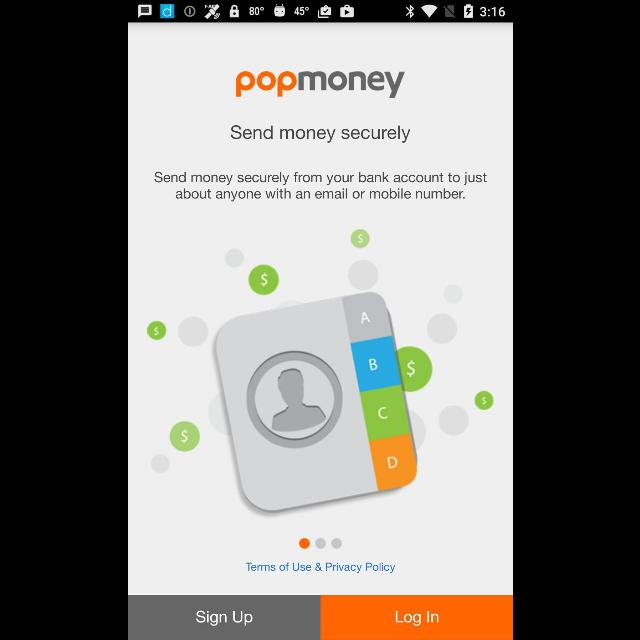image: (144, 226, 494, 516), (236, 71, 404, 99)
pageindicator: (298, 538, 342, 550)
text: (154, 172, 486, 202), (230, 125, 410, 143), (245, 562, 395, 572)
textbutton: (320, 596, 512, 640), (127, 596, 319, 640)
uppertaskbar: (128, 1, 512, 23)
